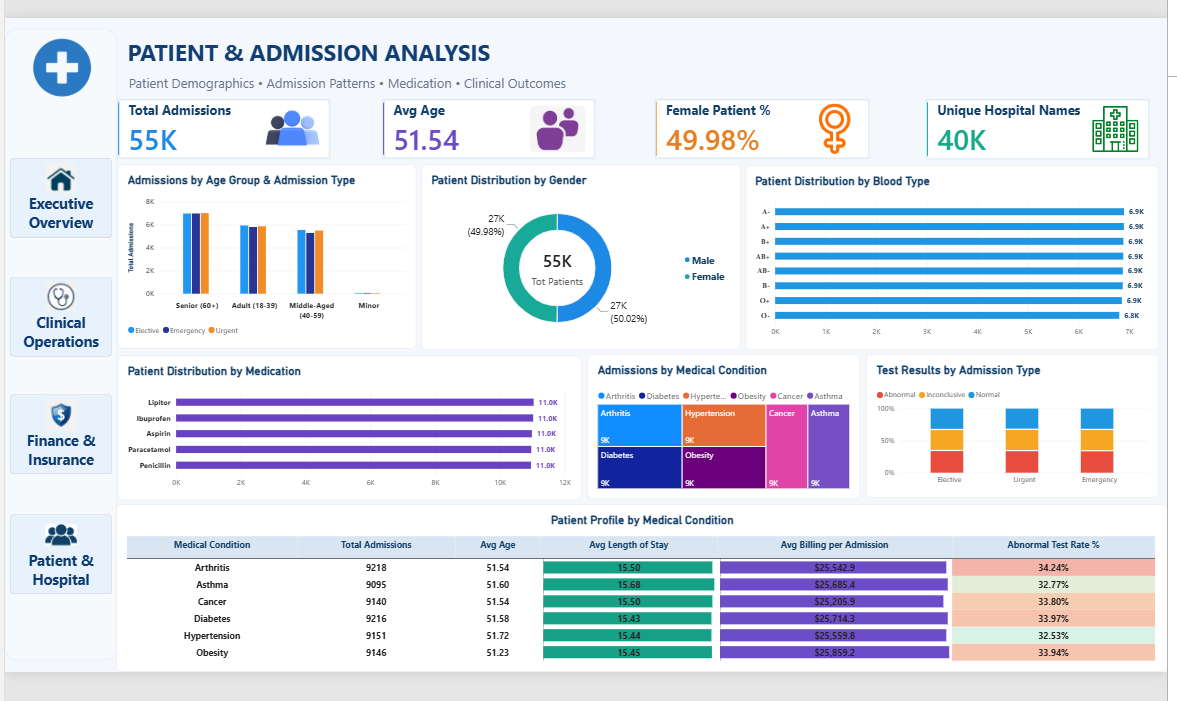

The page's visual inventory and layout, read from the dashboard file:
{"tool":"powerbi","page":{"name":"Patient & Hospital Analysis","canvas":[1920,1080],"ordinal":3},"visuals":[{"type":"textbox","box":[202.4,31,636,78.5],"z":0},{"type":"shape","box":[0,18.1,184.6,1042.4],"z":1000},{"type":"image","box":[23.5,25.3,143,114],"z":2000},{"type":"actionButton","box":[7.2,231.6,168.3,132.1],"z":3000},{"type":"actionButton","box":[7.2,427.1,168.3,132.1],"z":4000},{"type":"actionButton","box":[7.2,622.5,168.3,132.1],"z":5000},{"type":"actionButton","box":[7.2,819.8,168.3,132.1],"z":6000},{"type":"textbox","box":[204.5,92.3,799.9,41.6],"z":7000},{"type":"cardVisual","fields":{"Data":["Fact_Admissions.Total Admissions"]},"box":[185.2,133.8,352,98.8],"z":8000},{"type":"cardVisual","fields":{"Data":["Fact_Admissions.Avg Age"]},"box":[623.6,134.2,352,98.8],"z":9000},{"type":"cardVisual","fields":{"Data":["Fact_Admissions.Female Patient %"]},"box":[1073.8,134.2,354,98.8],"z":10000},{"type":"cardVisual","fields":{"Data":["Fact_Admissions.Total Hospitals"]},"box":[1521.9,134.2,369.6,99.1],"z":11000},{"type":"clusteredColumnChart","title":"Admissions by Age Group & Admission Type","fields":{"Category":["Fact_Admissions.   AgeGroup"],"Series":["Fact_Admissions.Admission Type"],"Y":["Fact_Admissions.Total Admissions"]},"box":[185.2,240.8,494,304.6],"z":12000},{"type":"donutChart","title":"Patient Distribution by Gender","fields":{"Category":["Fact_Admissions.Gender"],"Y":["Fact_Admissions.Total Admissions"]},"box":[687.5,240.8,526.9,306.7],"z":13000},{"type":"barChart","title":"Patient Distribution by Blood Type","fields":{"Category":["Fact_Admissions.Blood Type"],"Y":["CountNonNull(Fact_Admissions.Name)"]},"box":[1222.6,242.9,683.4,304.6],"z":14000},{"type":"barChart","title":"Patient Distribution by Medication","fields":{"Category":["Fact_Admissions.Medication"],"Y":["CountNonNull(Fact_Admissions.Name)"]},"box":[185.8,557.5,766.1,239.5],"z":15000},{"type":"hundredPercentStackedColumnChart","title":"Test Results by Admission Type","fields":{"Category":["Fact_Admissions.Admission Type"],"Series":["Fact_Admissions.Test Results"],"Y":["CountNonNull(Fact_Admissions.Name)"]},"box":[1422.8,555.5,483.2,237.5],"z":16000},{"type":"tableEx","fields":{"Values":["Dim_MedicalCondition.Medical Condition","Fact_Admissions.Total Admissions","Fact_Admissions.Avg Age","Fact_Admissions.Avg Length of Stay","Fact_Admissions.Avg Billing per Admission","Fact_Admissions.Abnormal Test Rate %"]},"box":[185.2,878.9,1654.9,181.1],"z":17000},{"type":"tableEx","title":"Patient Profile by Medical Condition","fields":{"Values":["Dim_MedicalCondition.Medical Condition","Fact_Admissions.Total Admissions","Fact_Admissions.Avg Age","Fact_Admissions.Avg Length of Stay","Fact_Admissions.Avg Billing per Admission","Fact_Admissions.Abnormal Test Rate %"]},"box":[183.8,803.3,1736.6,276.7],"z":18000},{"type":"treemap","title":"Admissions by Medical Condition","fields":{"Group":["Dim_MedicalCondition.Medical Condition"],"Values":["Fact_Admissions.Total Admissions"]},"box":[962.3,555.5,450.2,239.5],"z":19000}]}

Visuals, with their boxes on the page's 1920x1080 design canvas (x1, y1, x2, y2). These are canvas units, not pixel positions in the 1177x701 screenshot, which may show the page scaled, cropped or inside an application window:
textbox: x1=202, y1=31, x2=838, y2=110
shape: x1=0, y1=18, x2=185, y2=1060
image: x1=24, y1=25, x2=166, y2=139
actionButton: x1=7, y1=232, x2=176, y2=364
actionButton: x1=7, y1=427, x2=176, y2=559
actionButton: x1=7, y1=622, x2=176, y2=755
actionButton: x1=7, y1=820, x2=176, y2=952
textbox: x1=204, y1=92, x2=1004, y2=134
cardVisual - Fact_Admissions.Total Admissions: x1=185, y1=134, x2=537, y2=233
cardVisual - Fact_Admissions.Avg Age: x1=624, y1=134, x2=976, y2=233
cardVisual - Fact_Admissions.Female Patient %: x1=1074, y1=134, x2=1428, y2=233
cardVisual - Fact_Admissions.Total Hospitals: x1=1522, y1=134, x2=1892, y2=233
"Admissions by Age Group & Admission Type" clusteredColumnChart: x1=185, y1=241, x2=679, y2=545
"Patient Distribution by Gender" donutChart: x1=688, y1=241, x2=1214, y2=548
"Patient Distribution by Blood Type" barChart: x1=1223, y1=243, x2=1906, y2=548
"Patient Distribution by Medication" barChart: x1=186, y1=558, x2=952, y2=797
"Test Results by Admission Type" hundredPercentStackedColumnChart: x1=1423, y1=556, x2=1906, y2=793
tableEx - Dim_MedicalCondition.Medical Condition x Fact_Admissions.Total Admissions: x1=185, y1=879, x2=1840, y2=1060
"Patient Profile by Medical Condition" tableEx: x1=184, y1=803, x2=1920, y2=1080
"Admissions by Medical Condition" treemap: x1=962, y1=556, x2=1412, y2=795
